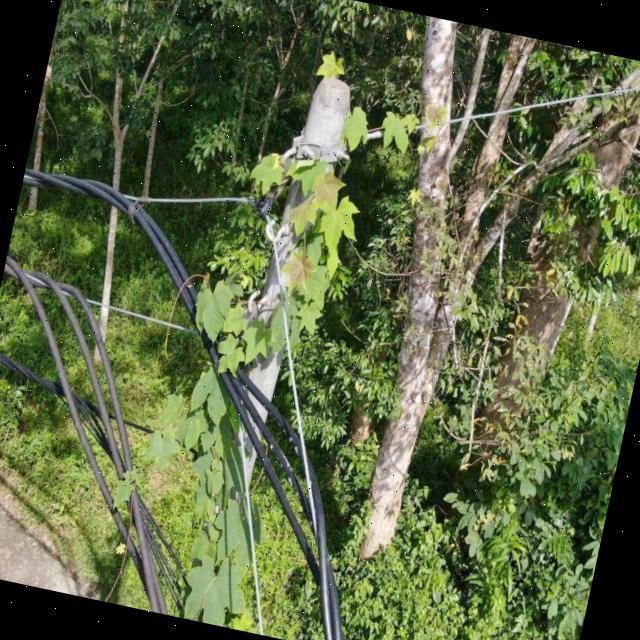critical vegetation: (77, 13, 472, 640)
